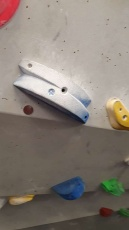Hand Start: (22, 105, 35, 116)
Jug: (101, 176, 125, 197)
Pinch: (14, 59, 92, 125), (51, 176, 86, 201)
